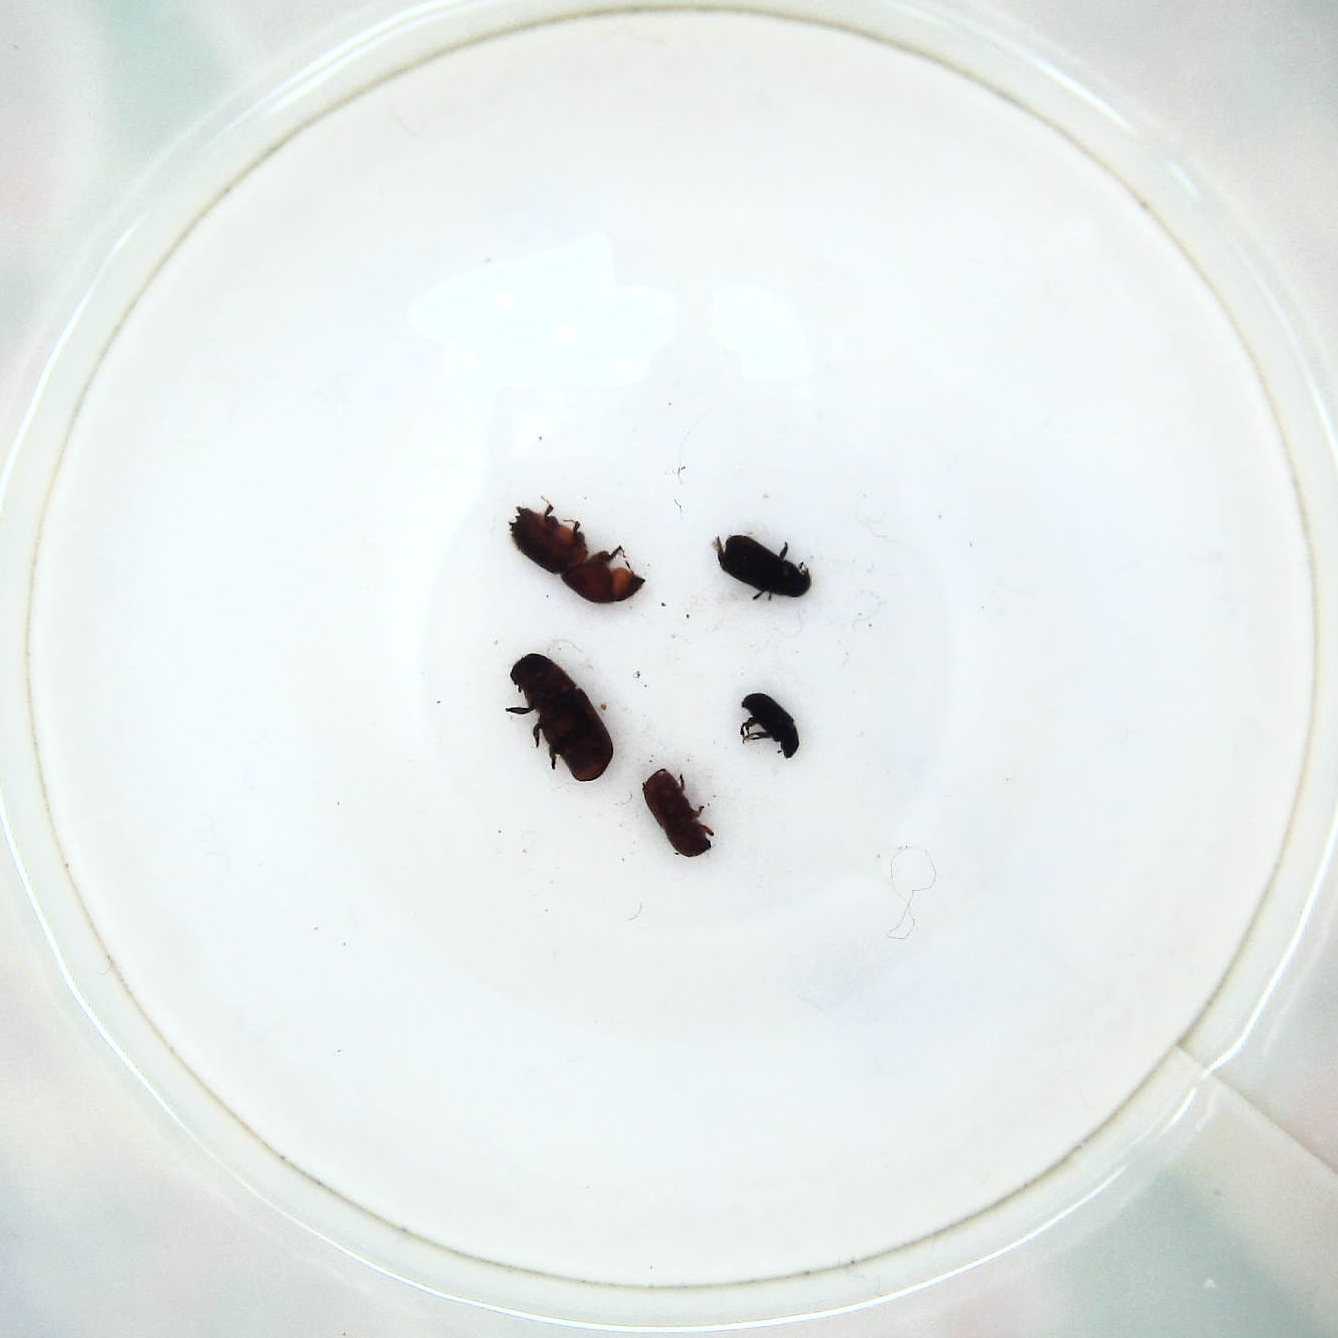Boerner: (502, 495, 656, 614)
Leconte: (497, 648, 620, 790)
armandi: (709, 531, 815, 607)
coleoptera: (731, 692, 807, 763)
linnaeus: (641, 761, 717, 863)
